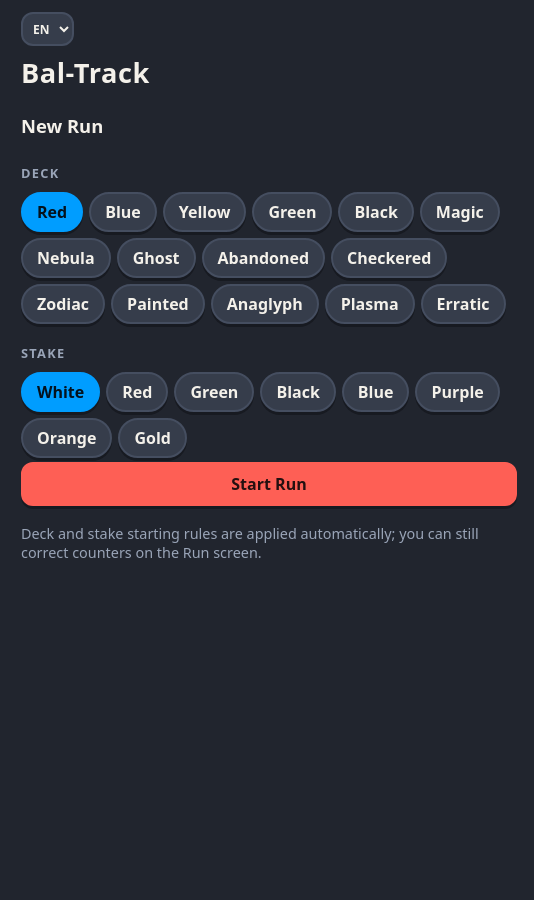
Scenario: the language switch in the app › keeps game terms in English while the chrome is German
Select "DE" in the dropdown named "Language". click: (48, 29)
box: [21, 12, 74, 46]
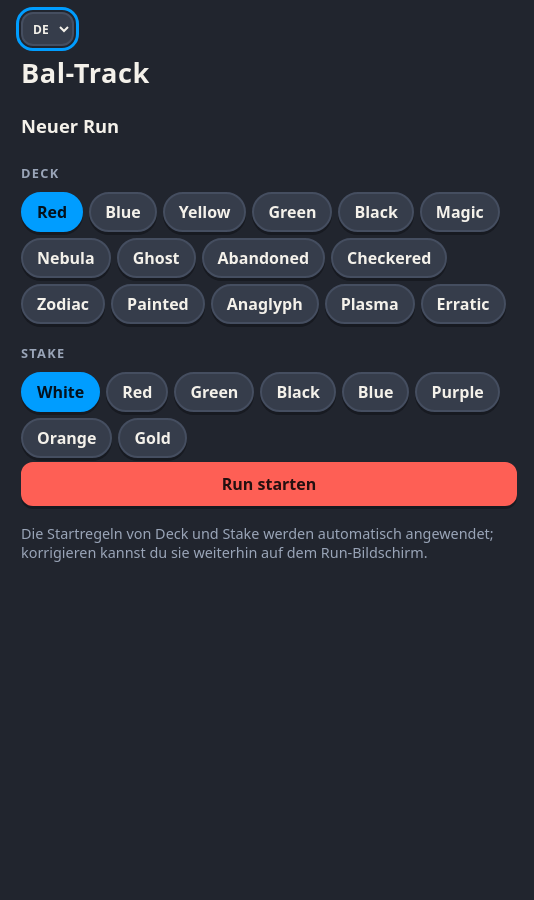
Click the button "Run starten". click: (269, 484)
box: [21, 462, 517, 506]
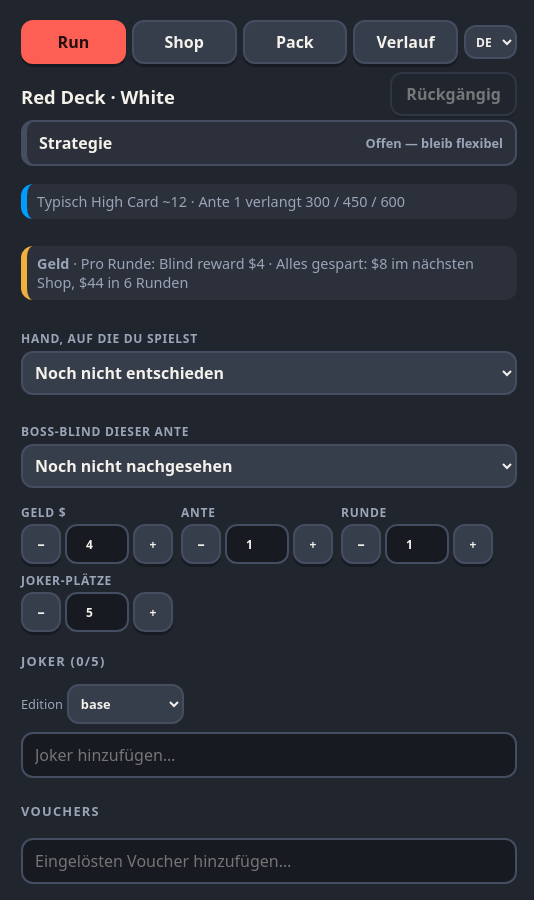
Expected: the text "Joker-Plätze" is shown, [21, 572, 112, 589]
Expected: the heading "Red Deck · White" is shown, [21, 84, 175, 108]
